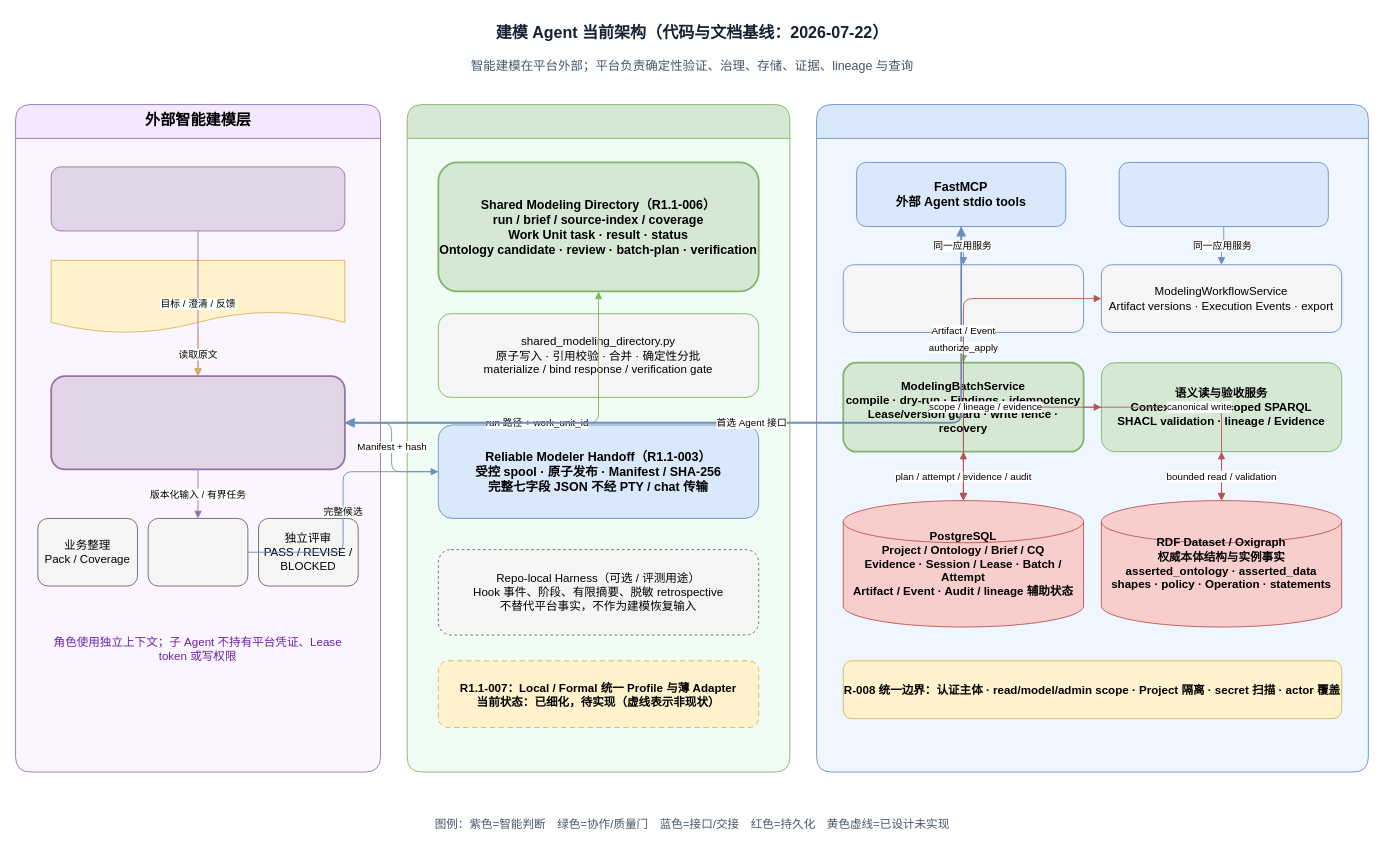
This 1384x854 diagram has some shape labels left out. The box of each missing label's shape, as (x1, y1, x2, y2) in pixels:
BuildSessionService Context · Session · Checkpoint · Lease: (842, 264, 1084, 332)
FastAPI UI / HTTP adapters: (1118, 162, 1328, 227)
OntoWeave 确定性平台层: (816, 104, 1368, 772)
Repo-local 协作与交接层（已实现）: (406, 104, 790, 772)
业务资料 / 固定评测快照 原文、Schema、API/OpenAPI、业务说明: (50, 259, 345, 333)
主建模 Agent + ontology-builder Skill 用户交流 · 阶段协调 · 质量判断 唯一获取 Lease / 正式 apply 的角色: (50, 375, 345, 470)
建模子 Agent 候选模型 / Batch 草案: (147, 518, 248, 586)
用户 业务目标 · 范围 · 澄清 · 价值判断: (50, 166, 345, 231)
